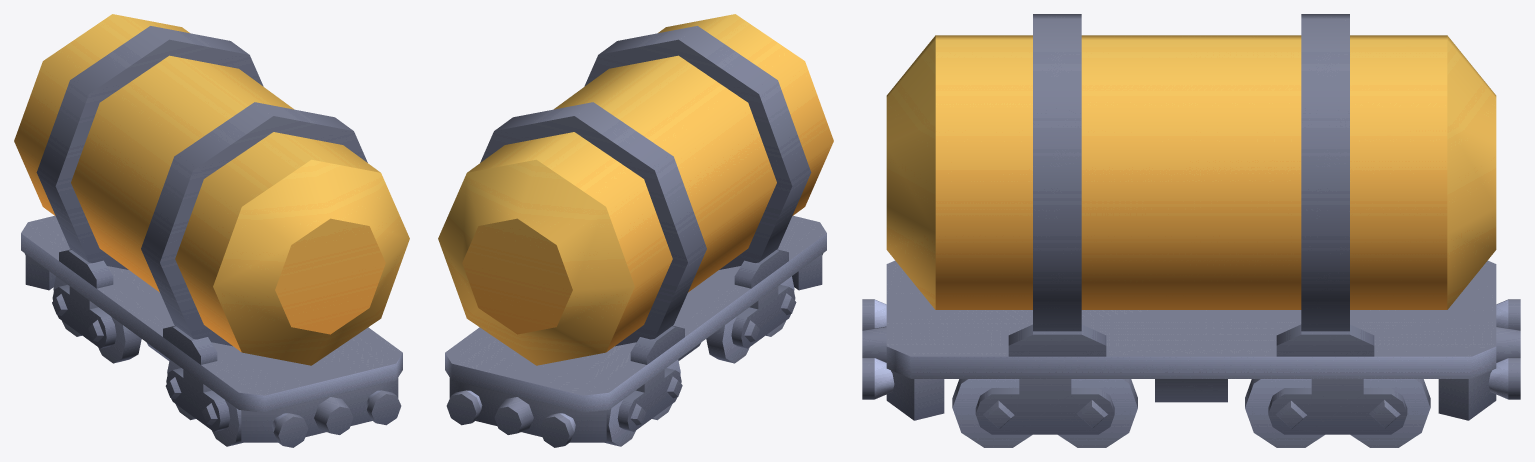
Rendered from train-carriage-tank-large.glb.
3 views of the same model, side by side, from view 1: azimuth 30°, elevation 25°; view 2: azimuth 150°, elevation 25°; view 3: azimuth 270°, elevation 25° (orthographic). The views are drawn at different scales.
Visible parts, largest first — view 1: train-carriage-tank-large, wheels-back, wheels-front; view 2: train-carriage-tank-large, wheels-front, wheels-back; view 3: train-carriage-tank-large, wheels-back, wheels-front.
Boxes of the visible parts, box(x1,y1,x2,y2) form: train-carriage-tank-large: box(14, 14, 409, 447); wheels-back: box(52, 276, 141, 363); wheels-front: box(165, 359, 242, 446); train-carriage-tank-large: box(438, 14, 833, 447); wheels-front: box(706, 276, 796, 363); wheels-back: box(605, 359, 682, 446); train-carriage-tank-large: box(862, 14, 1520, 420); wheels-back: box(1245, 379, 1430, 447); wheels-front: box(952, 379, 1137, 447).
Bounding box in the file's own units: 1.39 × 1.75 × 2.7.
Materials: 1 (1 with a texture image).
